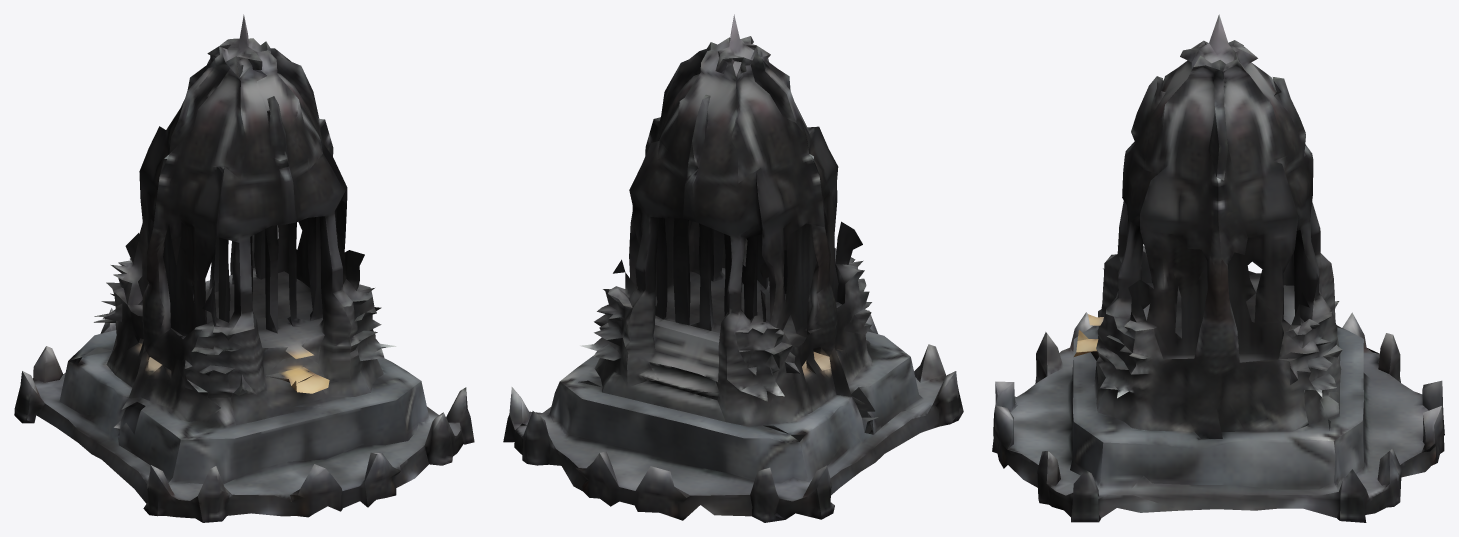
The model's file is frost-prison-cage.glb.
3 renders of one model, left to right at view 1: azimuth 30°, elevation 25°; view 2: azimuth 150°, elevation 25°; view 3: azimuth 270°, elevation 25°, orthographic. The views are drawn at different scales.
Parts seen in each view (by area): view 1: a-single-medieval-prisoner-cage-made-from_optimized; view 2: a-single-medieval-prisoner-cage-made-from_optimized; view 3: a-single-medieval-prisoner-cage-made-from_optimized.
Boxes of the visible parts, bbox=[...] form: a-single-medieval-prisoner-cage-made-from_optimized: bbox=[14, 14, 474, 522]; a-single-medieval-prisoner-cage-made-from_optimized: bbox=[503, 14, 963, 522]; a-single-medieval-prisoner-cage-made-from_optimized: bbox=[992, 14, 1444, 522].
Bounding box in the file's own units: 0.8054 × 1 × 0.9544.
1 material, 1 textured.
